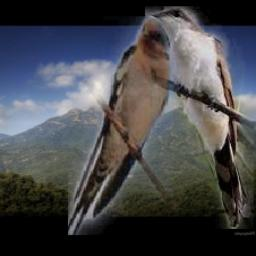Cuckoo: (145, 6, 254, 229)
Swallow: (67, 16, 172, 235)
